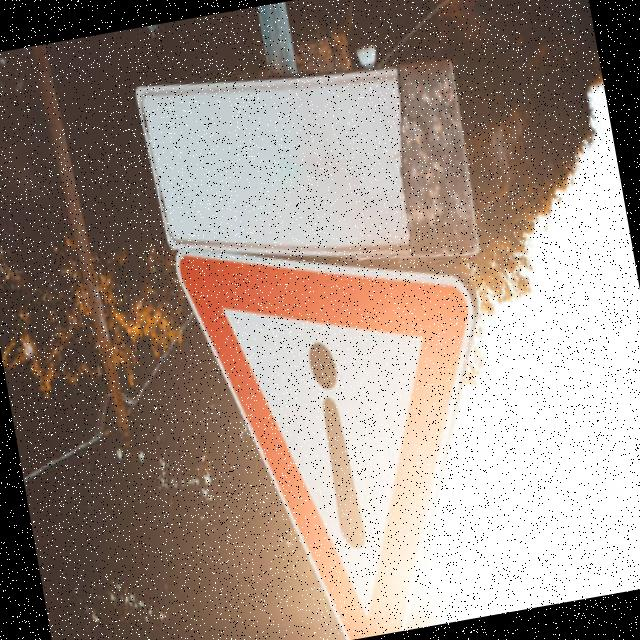warning: (166, 199, 543, 640)
